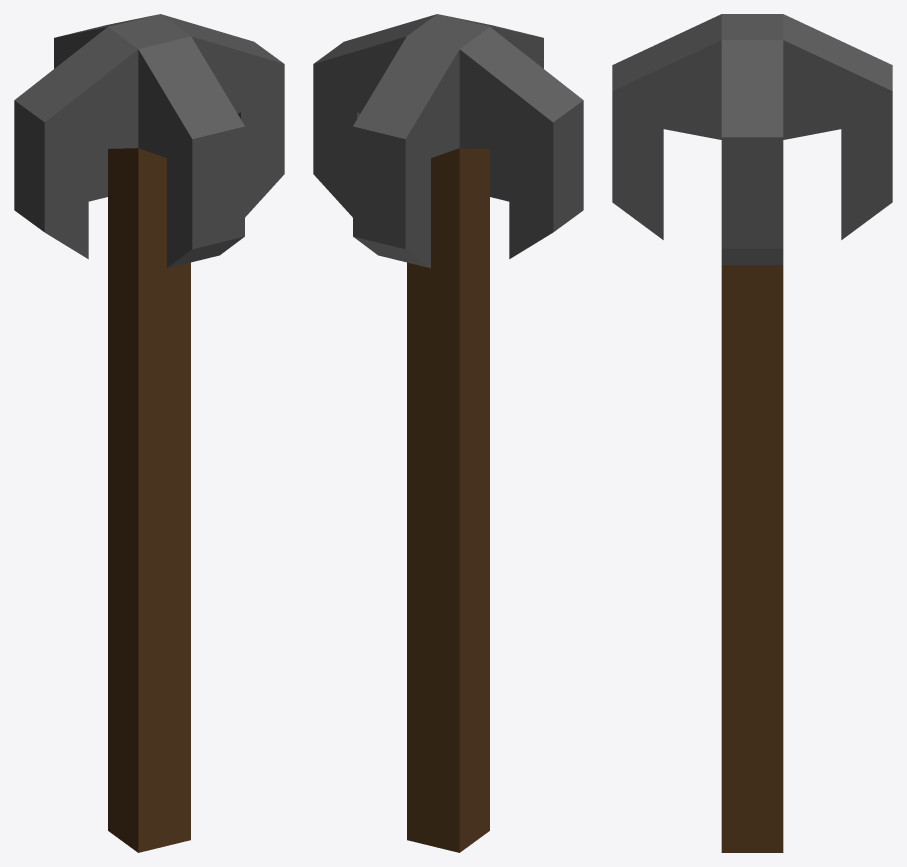
Rendered from Harpoon1.fbx.
3 views of the same model, side by side, from view 1: azimuth 30°, elevation 25°; view 2: azimuth 150°, elevation 25°; view 3: azimuth 270°, elevation 25° (orthographic).
Visible parts, largest first — view 1: Harpoon; view 2: Harpoon; view 3: Harpoon.
Part boxes in pixels (x1,y1,x2,y2): Harpoon: [14, 14, 284, 852]; Harpoon: [313, 14, 583, 852]; Harpoon: [612, 14, 892, 852].
Bounding box in the file's own units: 0.6569 × 2.1 × 0.6569.
Materials: 1 (1 with a texture image).
